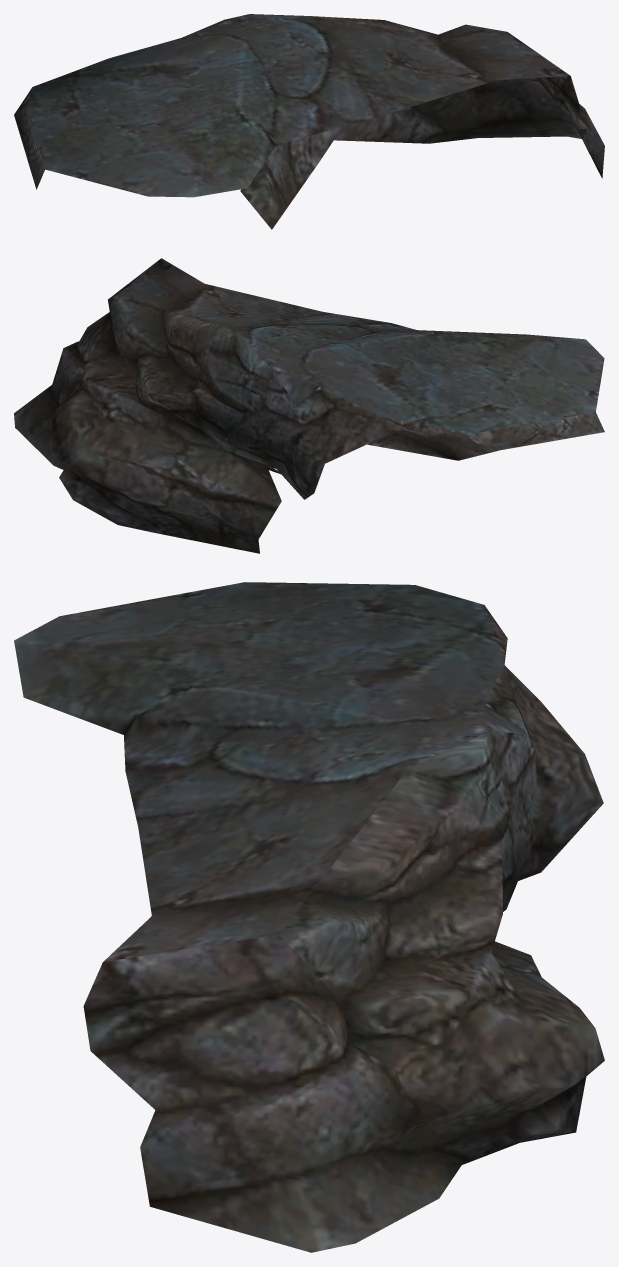
File: S_Rock_Yellow036_H11.FBX
The picture shows the model from 3 angles, top to bottom: view 1: azimuth 30°, elevation 25°; view 2: azimuth 150°, elevation 25°; view 3: azimuth 270°, elevation 25°; orthographic projection. The views are drawn at different scales.
Visible parts, largest first — view 1: S_Rock_Yellow036_H11; view 2: S_Rock_Yellow036_H11; view 3: S_Rock_Yellow036_H11.
Boxes of the visible parts, box(x1,y1,x2,y2) form: S_Rock_Yellow036_H11: box(14, 14, 604, 229); S_Rock_Yellow036_H11: box(14, 258, 604, 553); S_Rock_Yellow036_H11: box(14, 582, 604, 1252).
Bounding box in the file's own units: 1264 × 673 × 443.
1 material, 1 textured.
